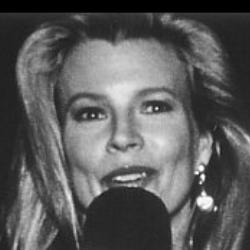face: (10, 13, 235, 230)
